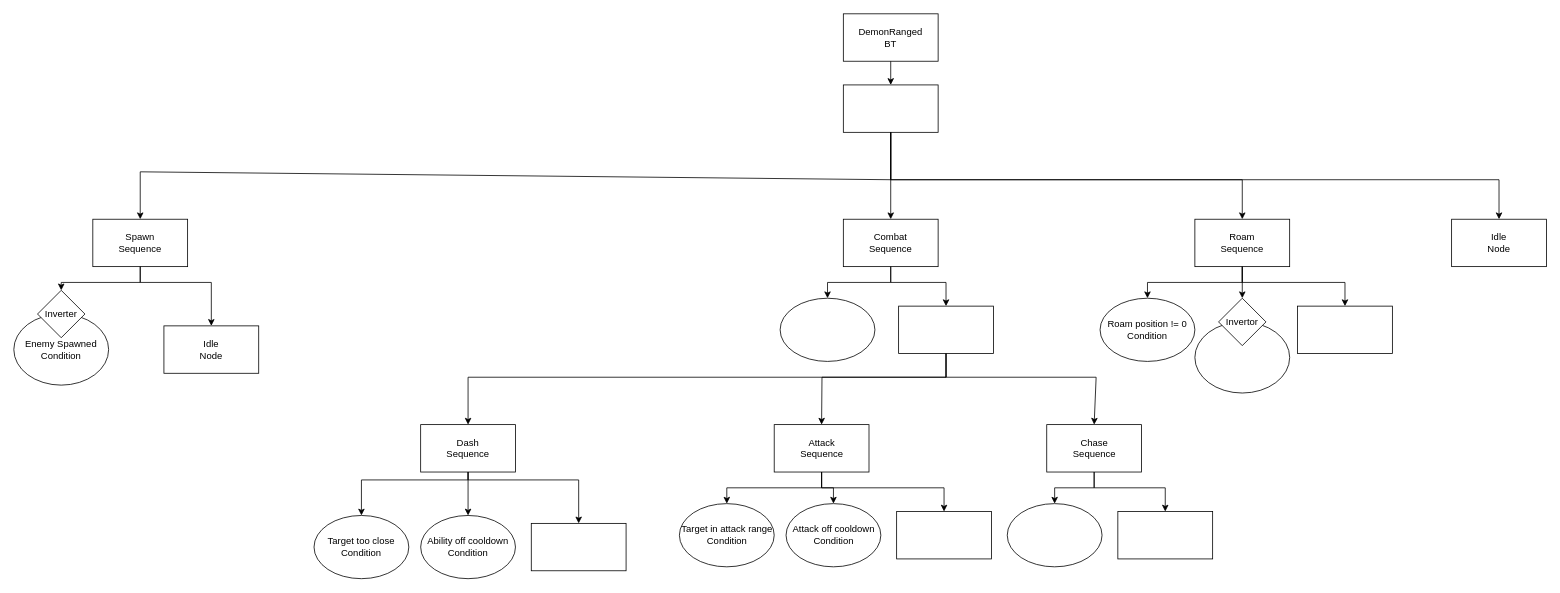
This 1560x593 diagram has some shape labels left out. Here are the shapes that lost their labels. From the top down, the box of each, then its label:
(843, 84, 938, 132): Root Priority Selector
(779, 297, 875, 361): Target exists Condition
(898, 305, 993, 354): Combat Selector
(1297, 305, 1392, 354): Move to roam position Node
(1194, 321, 1290, 393): Roam time expired Condition
(530, 523, 626, 571): Cast Dash from target Node
(896, 511, 991, 559): Attack Node
(1006, 503, 1102, 567): Target in chase range Condition
(1117, 511, 1213, 559): Chase Node
